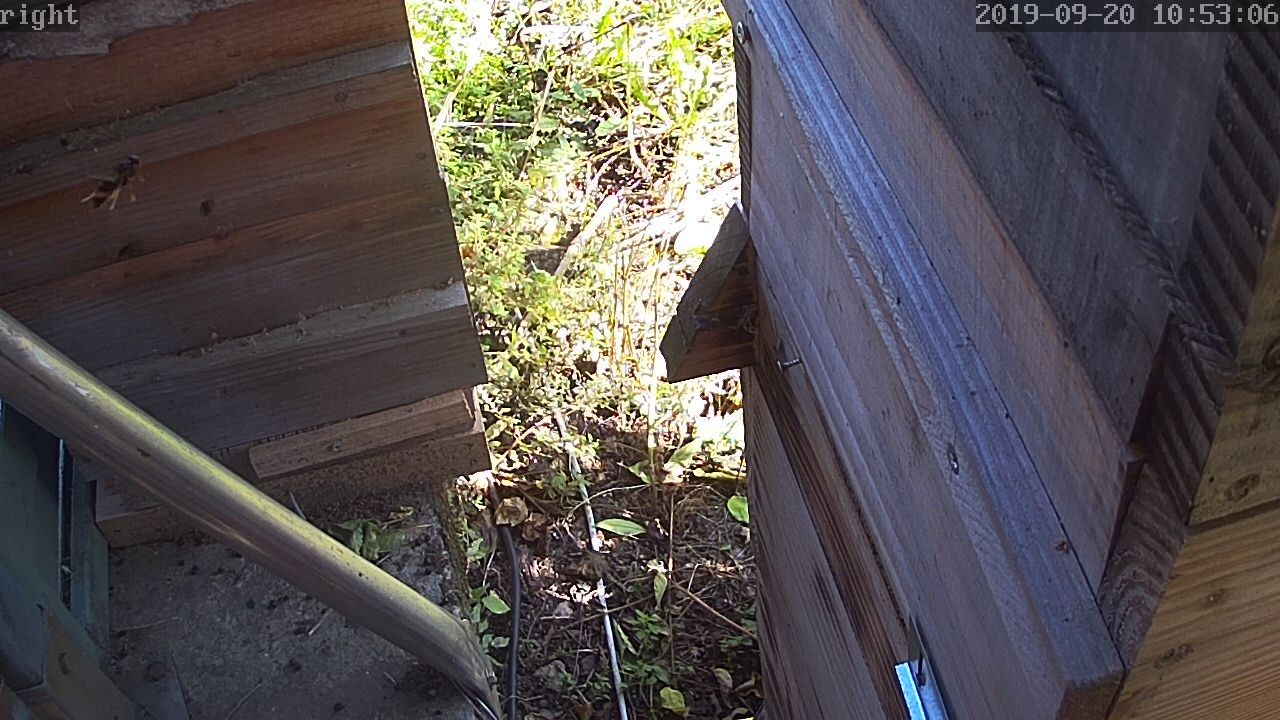hornet: (83, 150, 148, 213)
